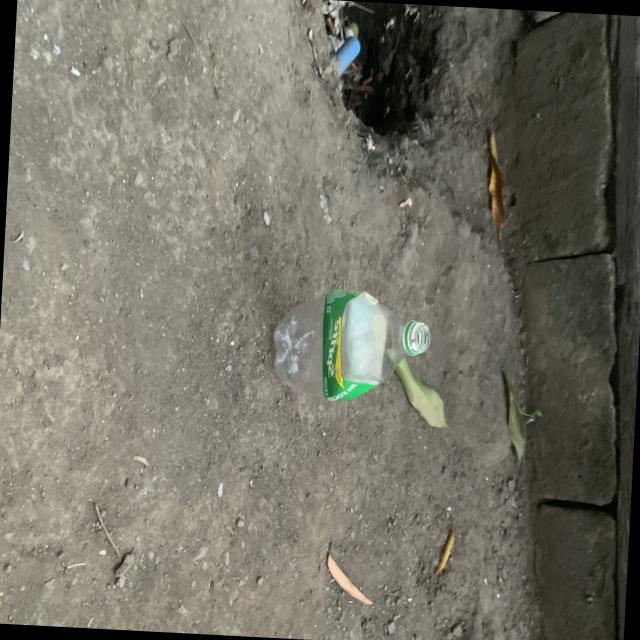Bottle: (272, 291, 429, 401)
